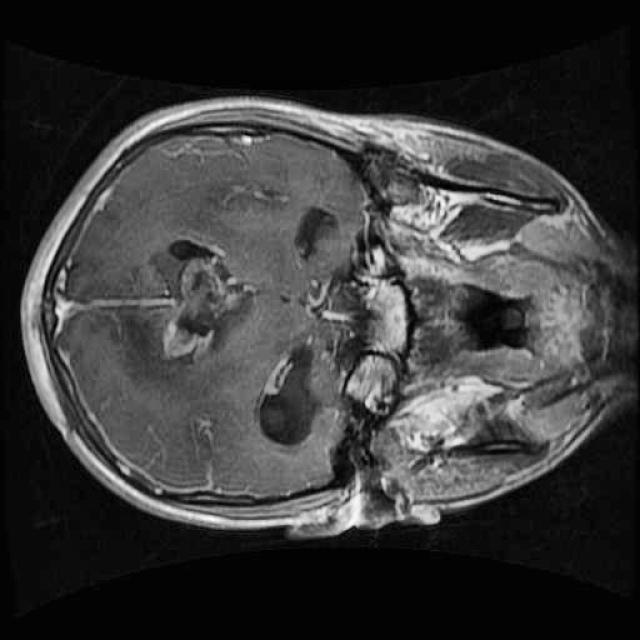Non-Tumor: (128, 214, 278, 384)
